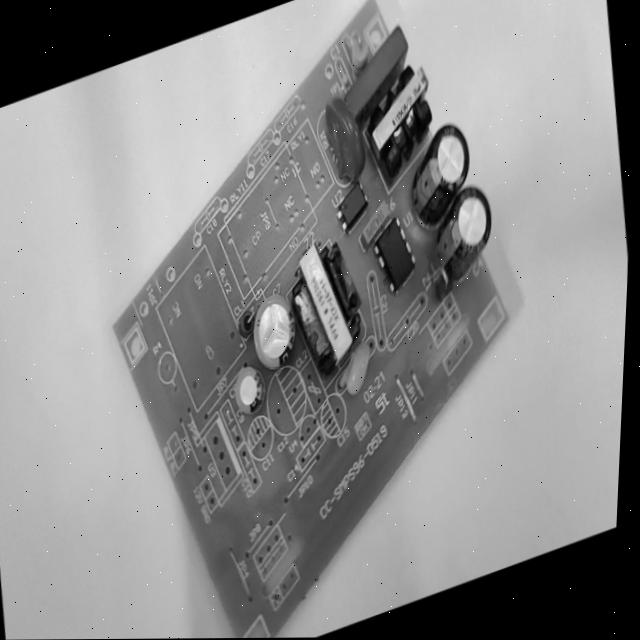Cap1: (245, 285, 303, 376)
Cap2: (229, 359, 268, 418)
Cap3: (400, 109, 482, 210)
Cap4: (424, 179, 501, 286)
MOSFET: (367, 205, 424, 303)
Mov: (317, 87, 374, 195)
Resistor: (344, 20, 376, 79)
Transformer: (281, 227, 370, 375), (354, 52, 441, 179)
